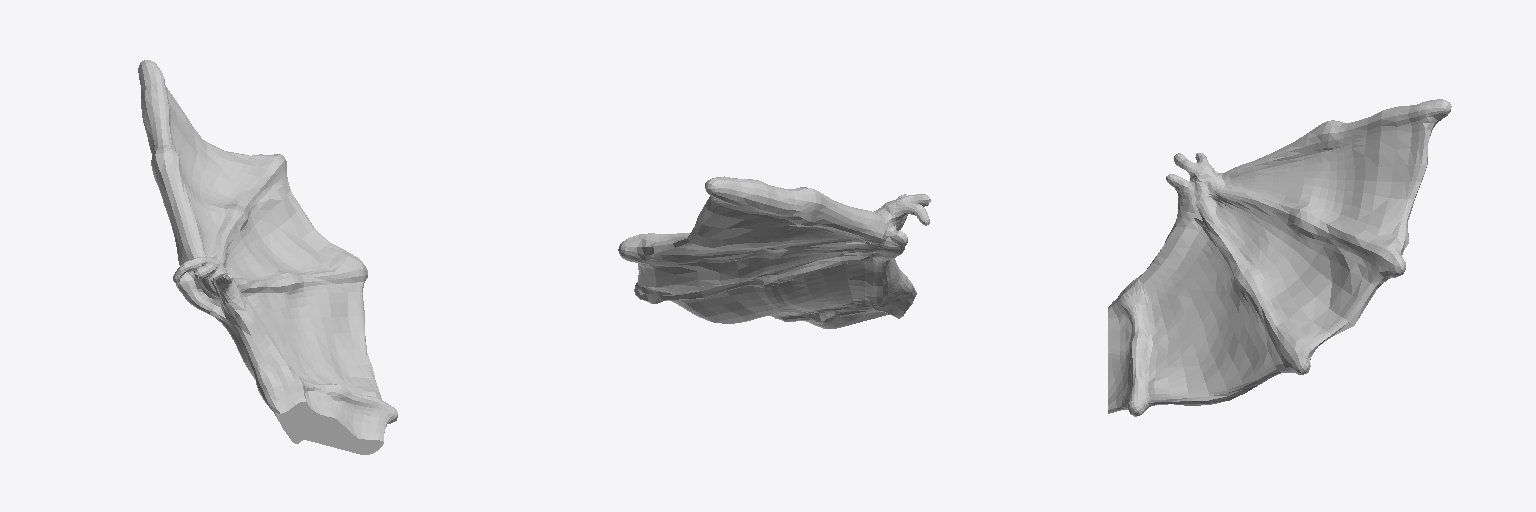
File: ala_izquierda.obj
3 renders of one model, left to right at view 1: azimuth 30°, elevation 25°; view 2: azimuth 150°, elevation 25°; view 3: azimuth 270°, elevation 25°, orthographic.
Parts seen in each view (by area): view 1: Ala_Derecha; view 2: Ala_Derecha; view 3: Ala_Derecha.
Part boxes in pixels (x1,y1,x2,y2): Ala_Derecha: (138,60,397,454); Ala_Derecha: (618,176,930,328); Ala_Derecha: (1108,99,1451,416).
Bounding box in the file's own units: 6.31 × 7.06 × 7.69.